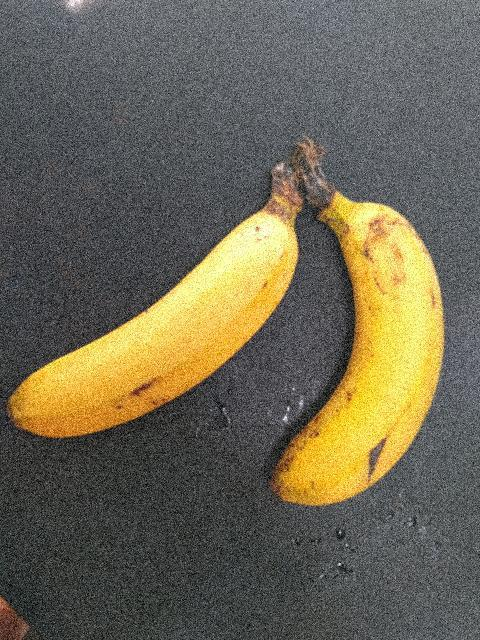freshripe: (10, 207, 313, 460)
ripe: (263, 196, 452, 530)
